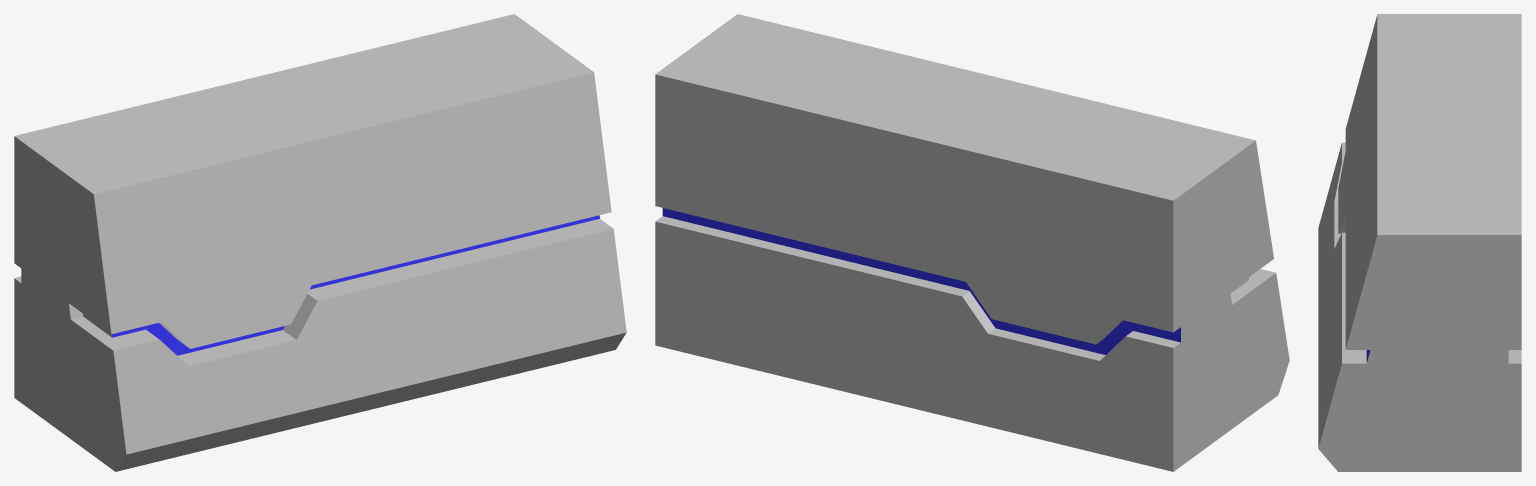
The model's file is x_ZAMOK_ZABOR_wall_part14_corner1_rmstrd.fbx.
The picture shows the model from 3 angles, left to right: view 1: azimuth 30°, elevation 25°; view 2: azimuth 150°, elevation 25°; view 3: azimuth 270°, elevation 25°; orthographic projection. The views are drawn at different scales.
Parts seen in each view (by area): view 1: x_ZAMOK_ZABOR_wall_part14_corner1_rmstrd1; view 2: x_ZAMOK_ZABOR_wall_part14_corner1_rmstrd1; view 3: x_ZAMOK_ZABOR_wall_part14_corner1_rmstrd1.
Part boxes in pixels (<box>): x_ZAMOK_ZABOR_wall_part14_corner1_rmstrd1: <box>14,14,626,471</box>; x_ZAMOK_ZABOR_wall_part14_corner1_rmstrd1: <box>655,14,1289,471</box>; x_ZAMOK_ZABOR_wall_part14_corner1_rmstrd1: <box>1318,14,1521,471</box>.
Bounding box in the file's own units: 4 × 2 × 1.55.
